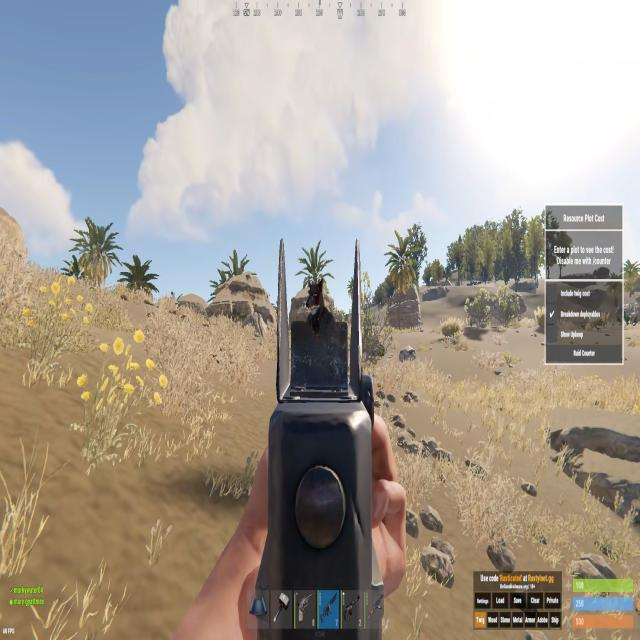Player: (305, 274, 335, 341)
